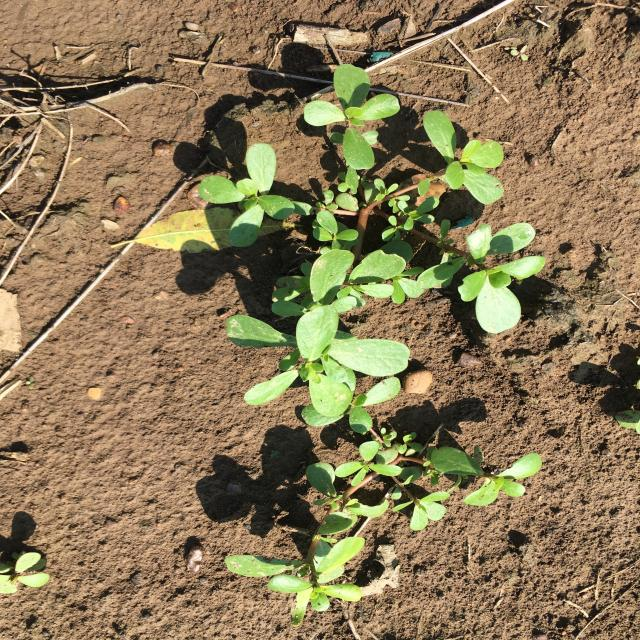Purslane: (199, 64, 546, 416), (225, 365, 542, 626)
